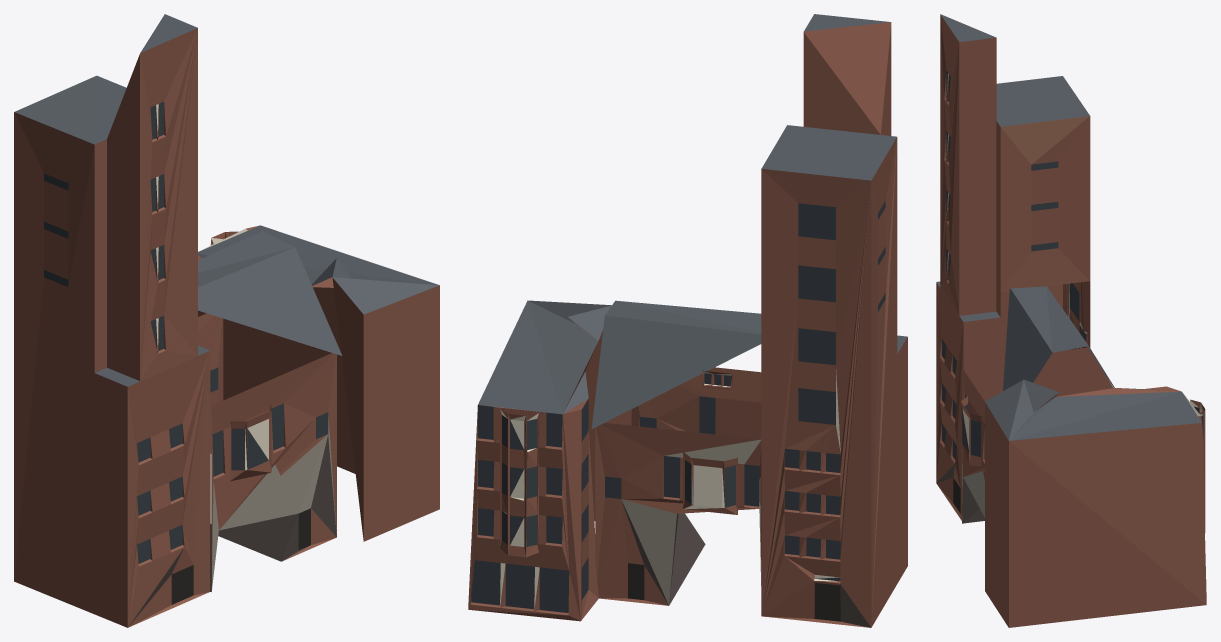
File: mercatorplein-zuidtoren.lod2.glb
3 views of the same model, side by side, from view 1: azimuth 30°, elevation 25°; view 2: azimuth 150°, elevation 25°; view 3: azimuth 270°, elevation 25° (orthographic). The views are drawn at different scales.
Visible parts, largest first — view 1: lod2; view 2: lod2; view 3: lod2.
Boxes of the visible parts, <box> form: lod2: <box>14,14,439,627</box>; lod2: <box>468,14,907,627</box>; lod2: <box>936,14,1206,627</box>.
Size of the model in its own units: 25.58 by 35.4 by 18.26.
